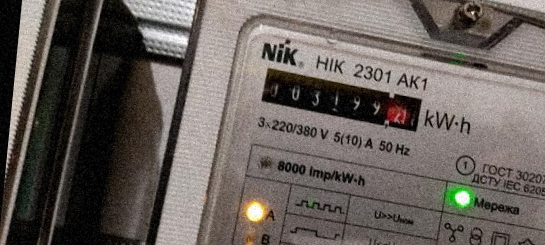0: (266, 78, 281, 98), (289, 81, 301, 101)
1: (330, 86, 341, 106)
3: (309, 87, 320, 107)
6: (391, 109, 402, 126)
9: (369, 98, 381, 117), (350, 92, 361, 111)
screen: (252, 62, 430, 140)
